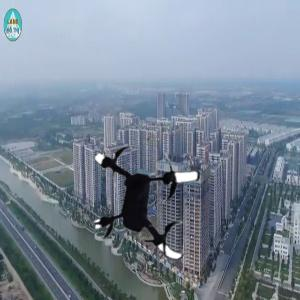drone: (82, 133, 219, 270)
